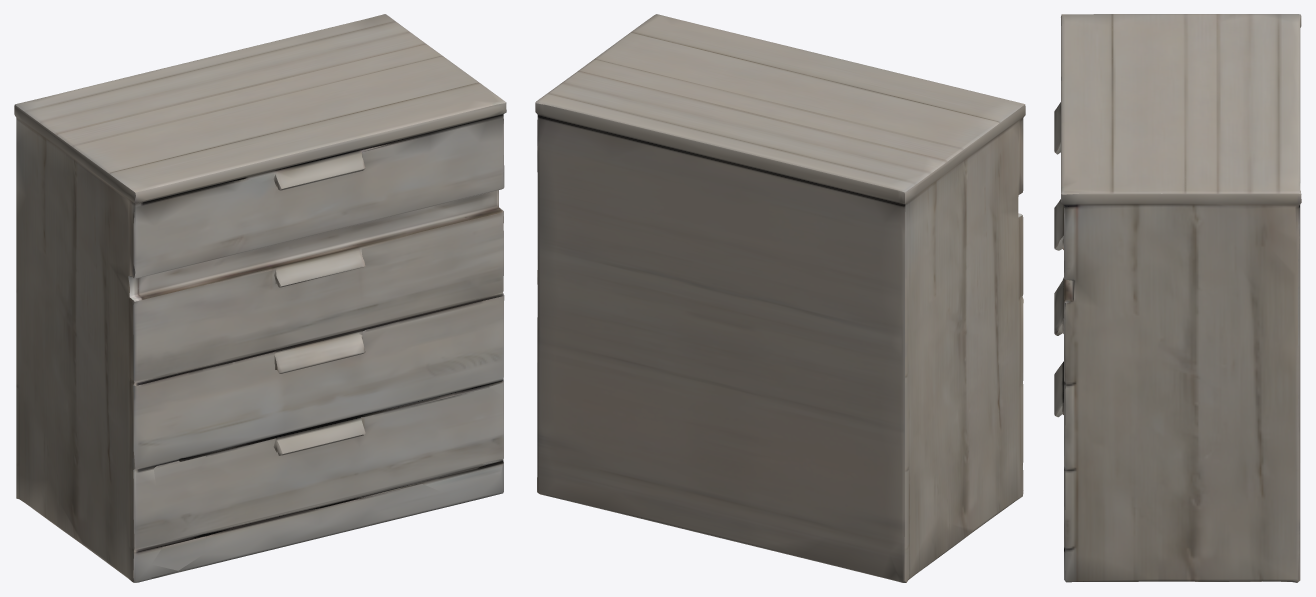
File: Commode1_3D_textured.glb
3 renders of one model, left to right at view 1: azimuth 30°, elevation 25°; view 2: azimuth 150°, elevation 25°; view 3: azimuth 270°, elevation 25°, orthographic.
Visible parts, largest first — view 1: temp_mesh.ply; view 2: temp_mesh.ply; view 3: temp_mesh.ply.
Part boxes in pixels (x1,y1,x2,y2): temp_mesh.ply: (14,14,506,582); temp_mesh.ply: (535,14,1025,582); temp_mesh.ply: (1054,14,1301,582).
Size of the model in its own units: 1.95 by 1.97 by 1.13.
1 material, 1 textured.
